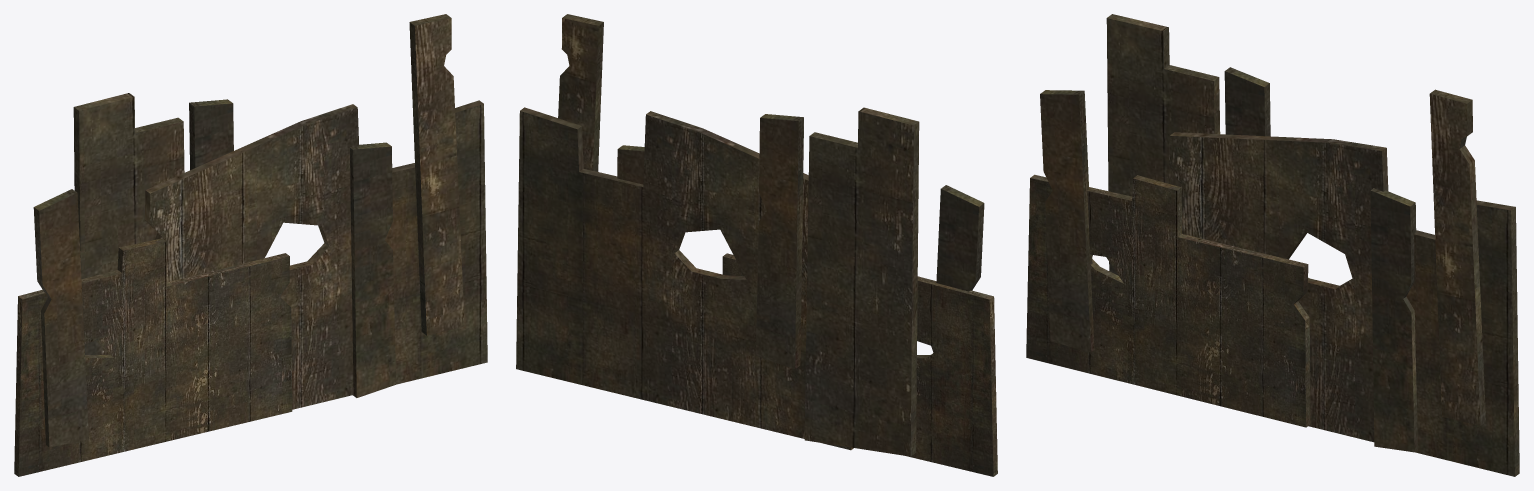
3 views of the same model, side by side, from view 1: azimuth 30°, elevation 25°; view 2: azimuth 150°, elevation 25°; view 3: azimuth 330°, elevation 25° (orthographic). The views are drawn at different scales.
Parts seen in each view (by area): view 1: woodwall4; view 2: woodwall4; view 3: woodwall4.
Boxes of the visible parts, left/top/right/bottom form: woodwall4: left=14, top=14, right=487, bottom=476; woodwall4: left=516, top=14, right=997, bottom=476; woodwall4: left=1026, top=14, right=1519, bottom=476.
Bounding box in the file's own units: 4.13 × 3 × 0.2721.
1 material, 1 textured.
